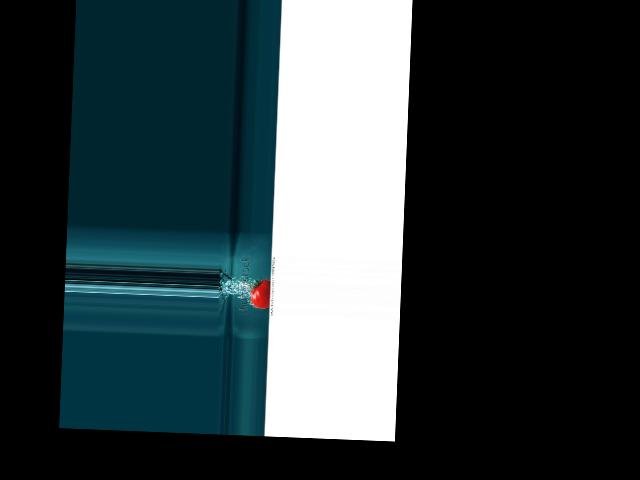tomato: (250, 278, 270, 308)
